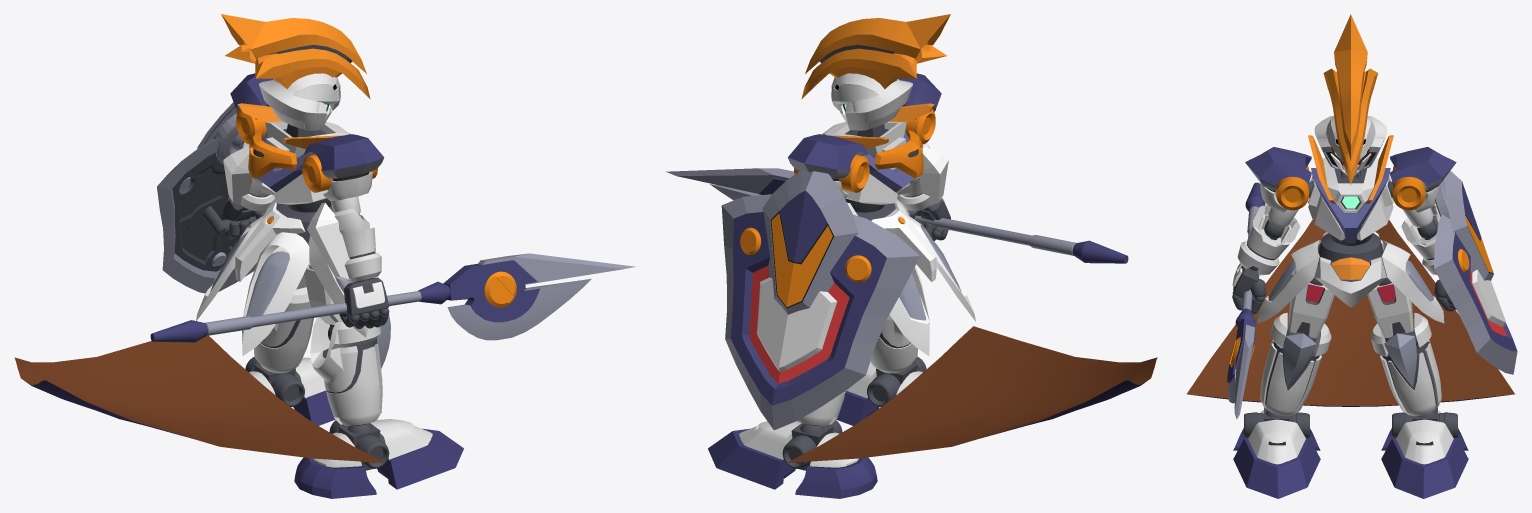
File: elysion.glb
3 renders of one model, left to right at view 1: azimuth 30°, elevation 25°; view 2: azimuth 150°, elevation 25°; view 3: azimuth 270°, elevation 25°, orthographic. The views are drawn at different scales.
Visible parts, largest first — view 1: root; view 2: root; view 3: root.
Boxes of the visible parts, bbox=[...] form: root: bbox=[14, 14, 635, 498]; root: bbox=[666, 14, 1157, 498]; root: bbox=[1187, 14, 1517, 498].
Size of the model in its own units: 10 by 7.94 by 5.98.
